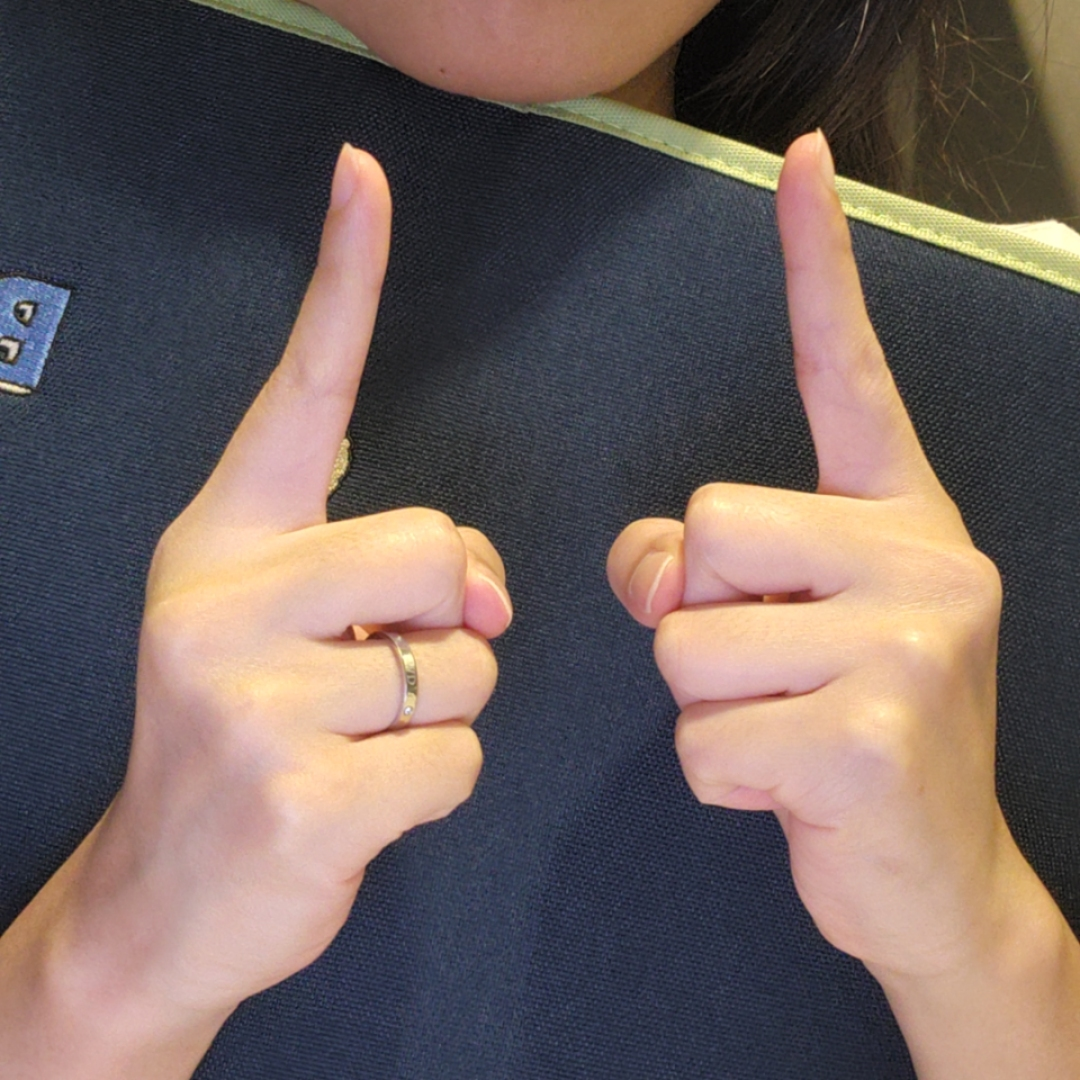meet: (125, 134, 1006, 993)
